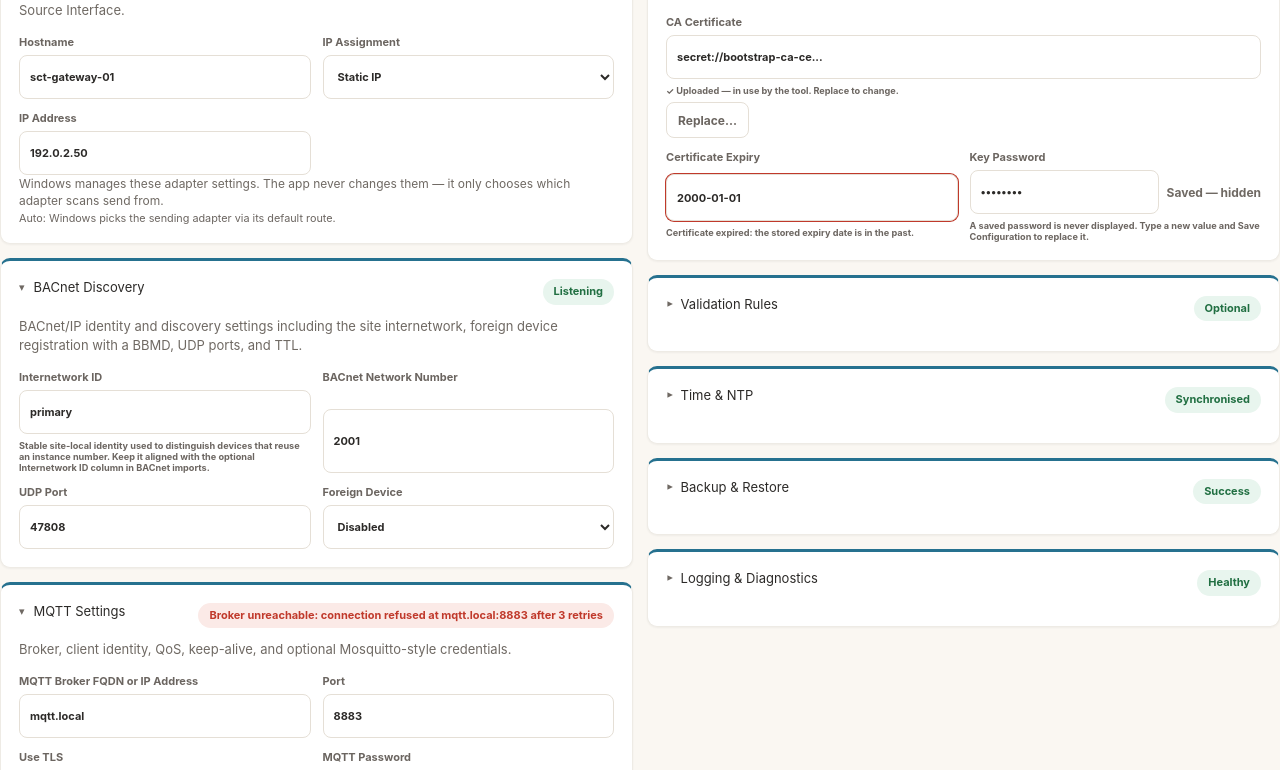
it: ConfigurationPage › collapses advanced sections by default and toggles them open
(page scrolled)
Check: the text "Timezone" is not shown
Click the button "▾ Time & NTP Synchronised": (717, 395) top-left (666, 388), bottom-right (1261, 413)
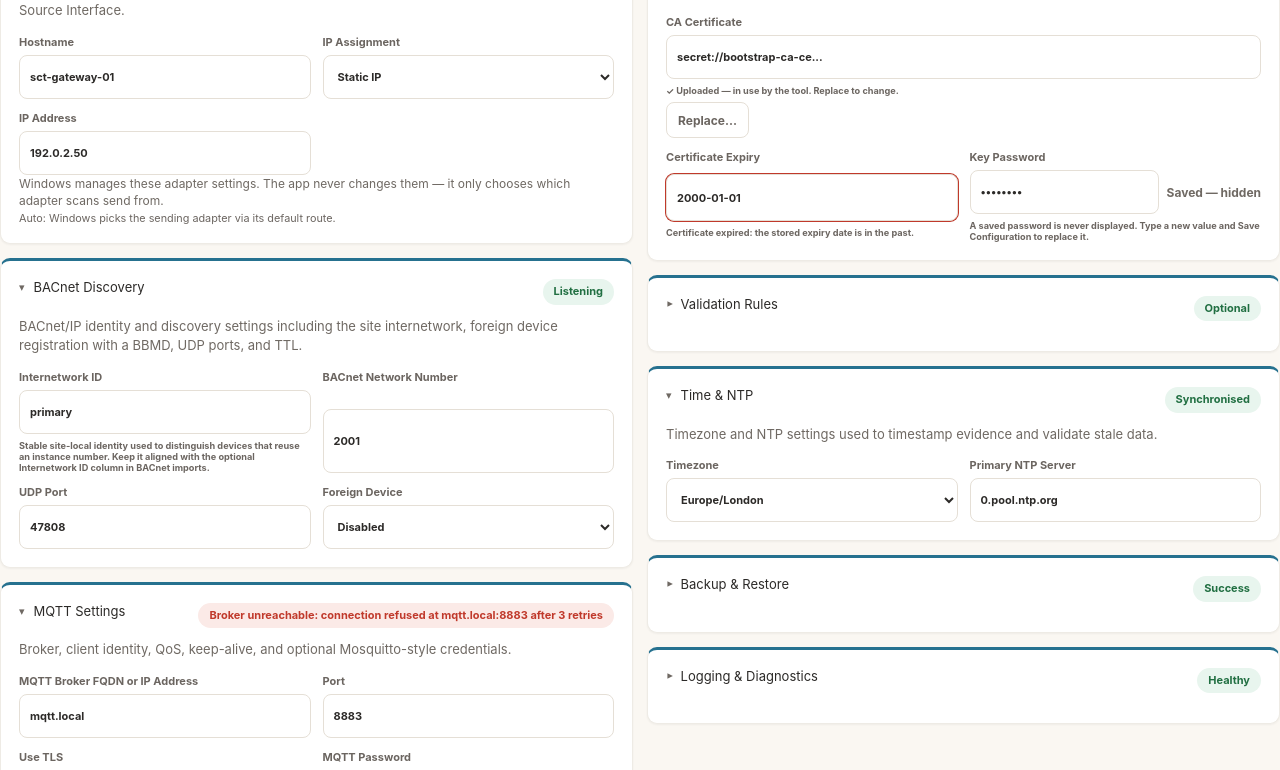
Check: the button "▾ Time & NTP Synchronised" is expanded, box top-left (666, 388), bottom-right (1261, 413)
Check: the text "Timezone" is shown, box top-left (666, 458), bottom-right (958, 522)
